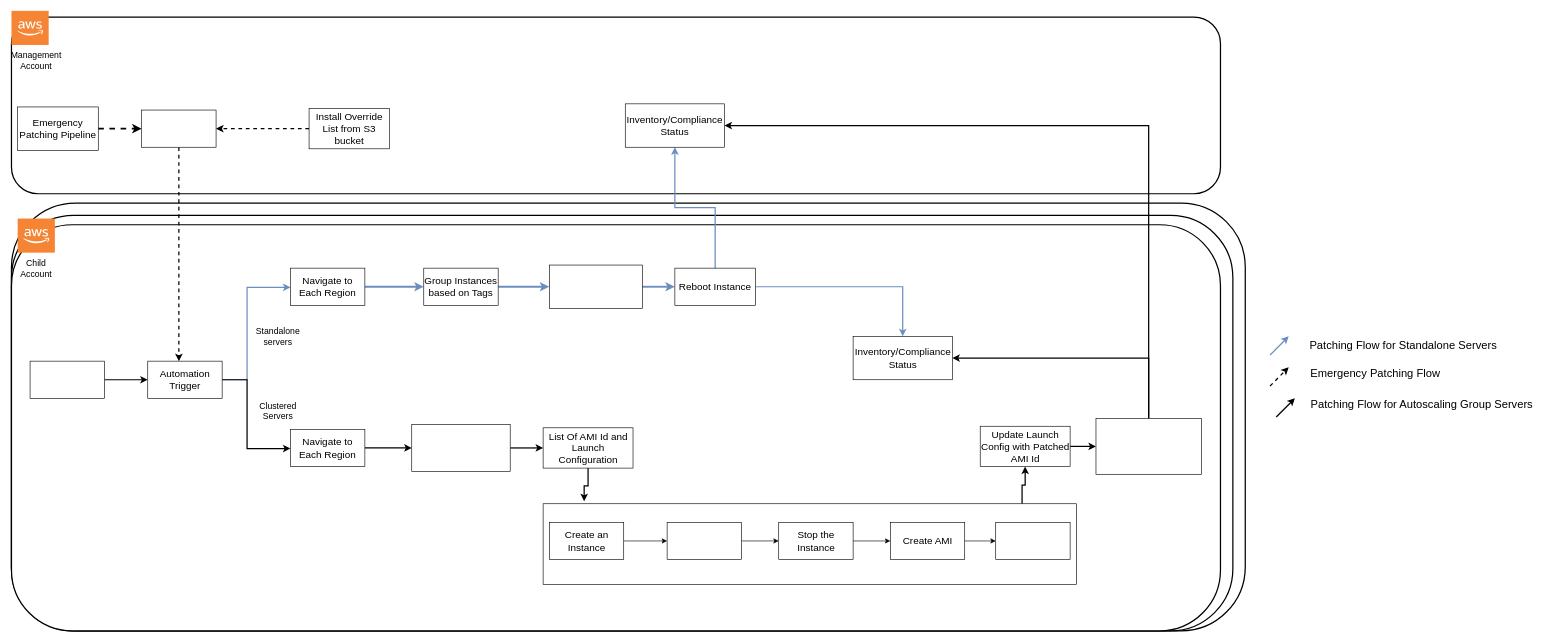
This 1553x642 diagram has some shape labels left out. Each missing label, with the box of its shape:
Apply Patch Baseline: (666, 522, 742, 560)
Apply Patch Baseline based on Patch Group: (549, 264, 642, 308)
Get the Autoscaling Group along with AMI id based on Tag: (411, 424, 510, 472)
Navigate to Each Account: (141, 109, 216, 147)
Recycle Instances in the Autoscaling Group with Rolling update: (1095, 418, 1201, 474)
Start Maintenance Window: (29, 361, 104, 398)
Terminate Instance: (995, 522, 1070, 560)
